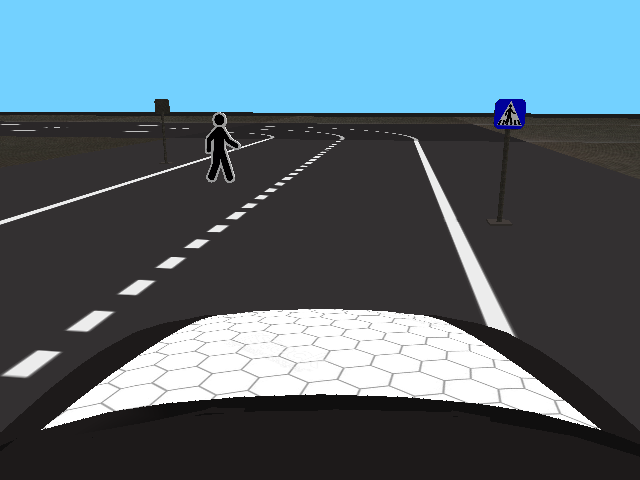pedestrian: (204, 111, 241, 184)
pedestrian_cross: (494, 99, 527, 129)
